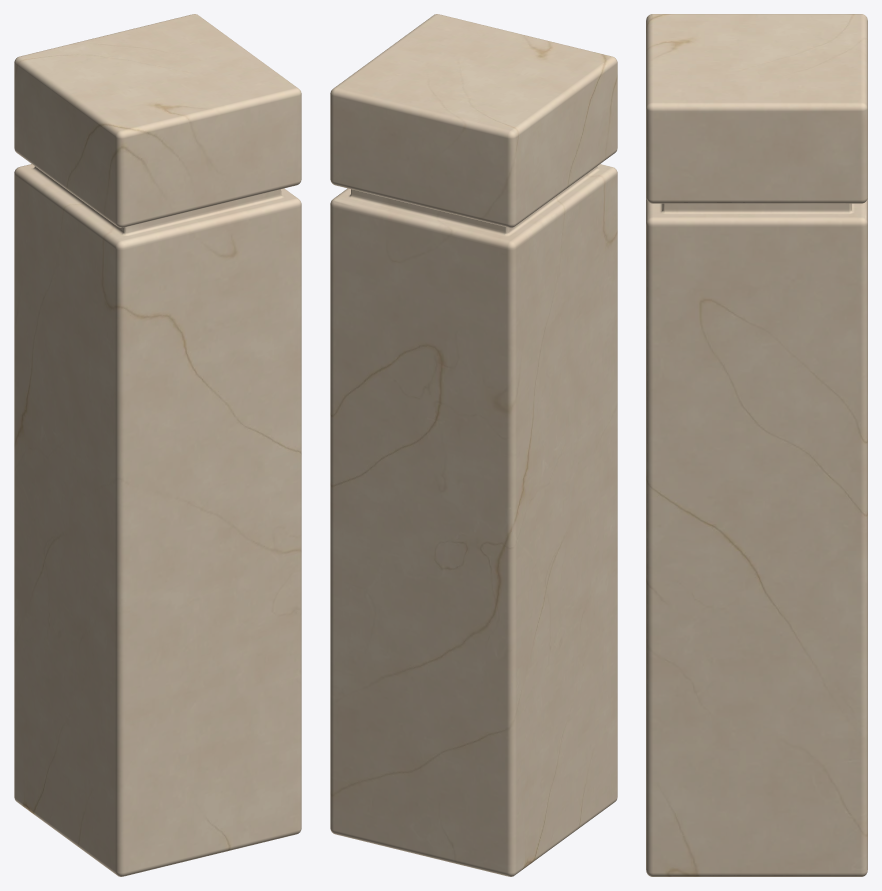
The model's file is king-white.glb.
3 views of the same model, side by side, from view 1: azimuth 30°, elevation 25°; view 2: azimuth 150°, elevation 25°; view 3: azimuth 270°, elevation 25° (orthographic). The views are drawn at different scales.
Visible parts, largest first — view 1: kral_bily; view 2: kral_bily; view 3: kral_bily.
Part boxes in pixels (<box>): kral_bily: <box>14,14,301,876</box>; kral_bily: <box>330,14,617,876</box>; kral_bily: <box>646,14,867,876</box>.
Size of the model in its own units: 0.4287 by 1.65 by 0.4287.
1 material, 1 textured.
